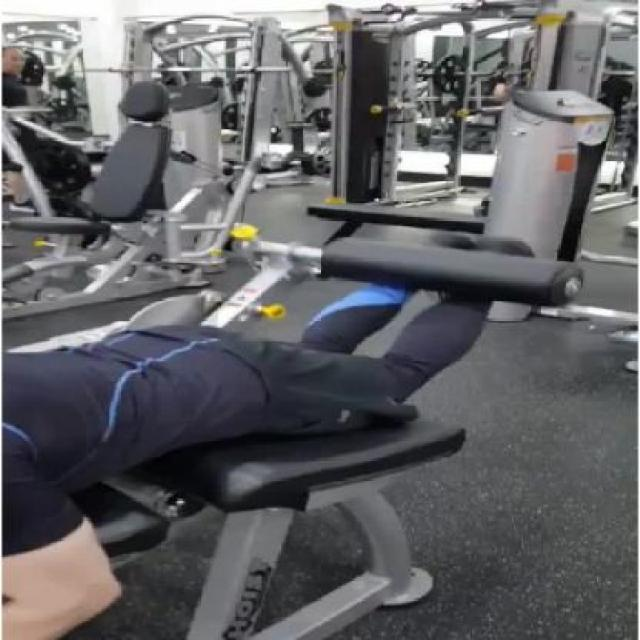reg curl machine: (0, 231, 589, 640)
